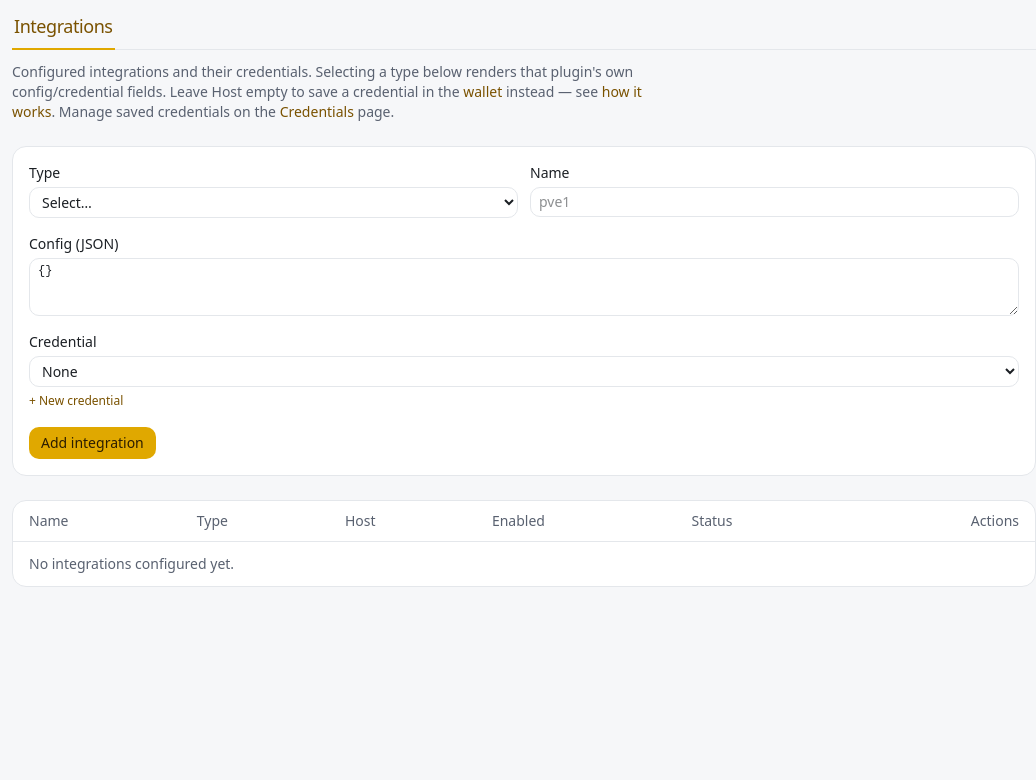
Test: IntegrationsPage › renders a typed field per JSON Schema type and submits their values as config
Expected: the text "No integrations configured yet." is shown, [13,542,1035,586]
Select "Demo Plugin" in the dropdown "Select…". click: (274, 202)
box: [29,187,518,218]
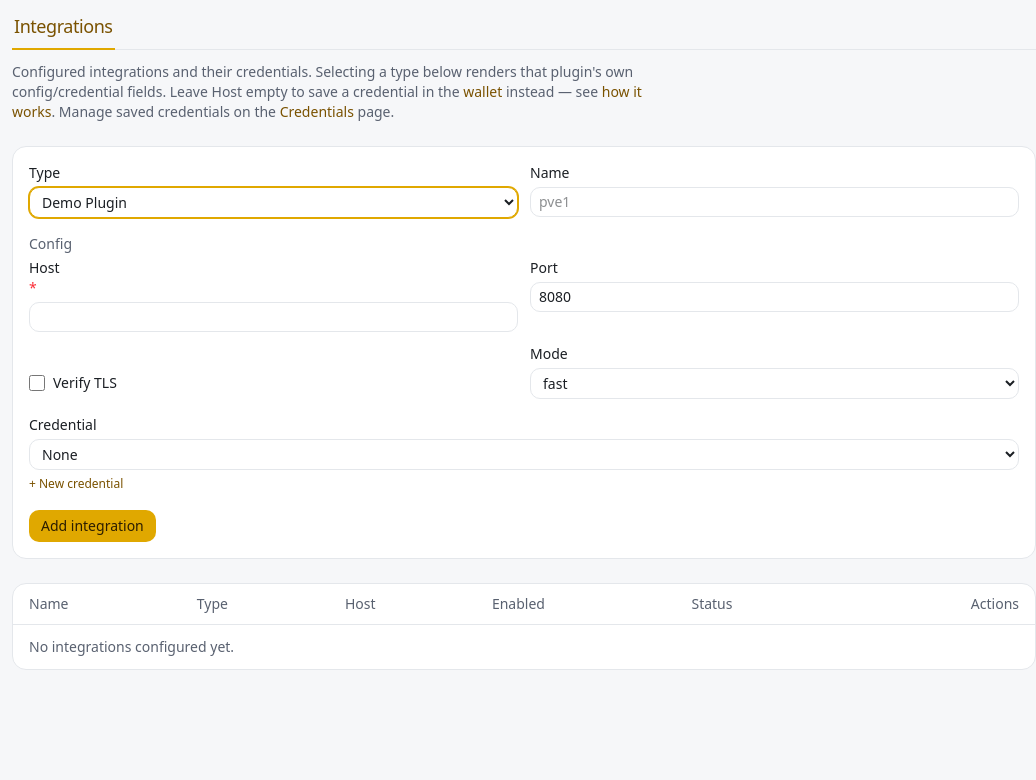
Type "demo-instance" into the field with placeholder "pve1". click: (774, 202)
box: [530,187,1019,217]
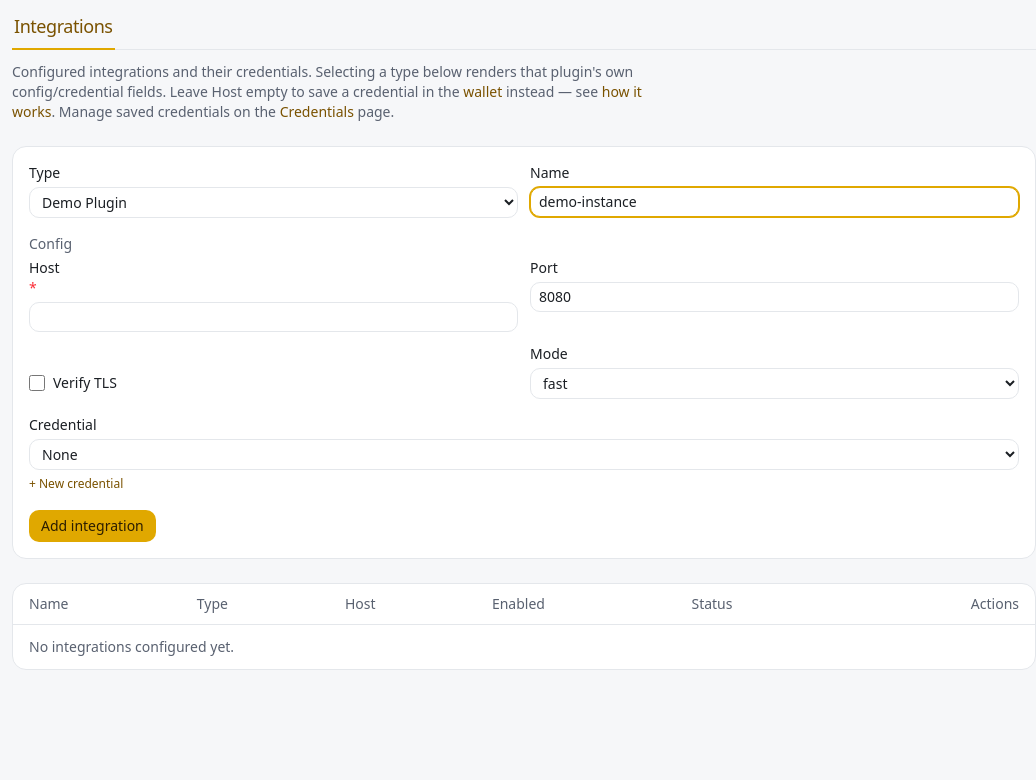
# string field
Type "192.168.1.50" into the field labelled "Host *". click: (274, 317)
box: [29,302,518,332]
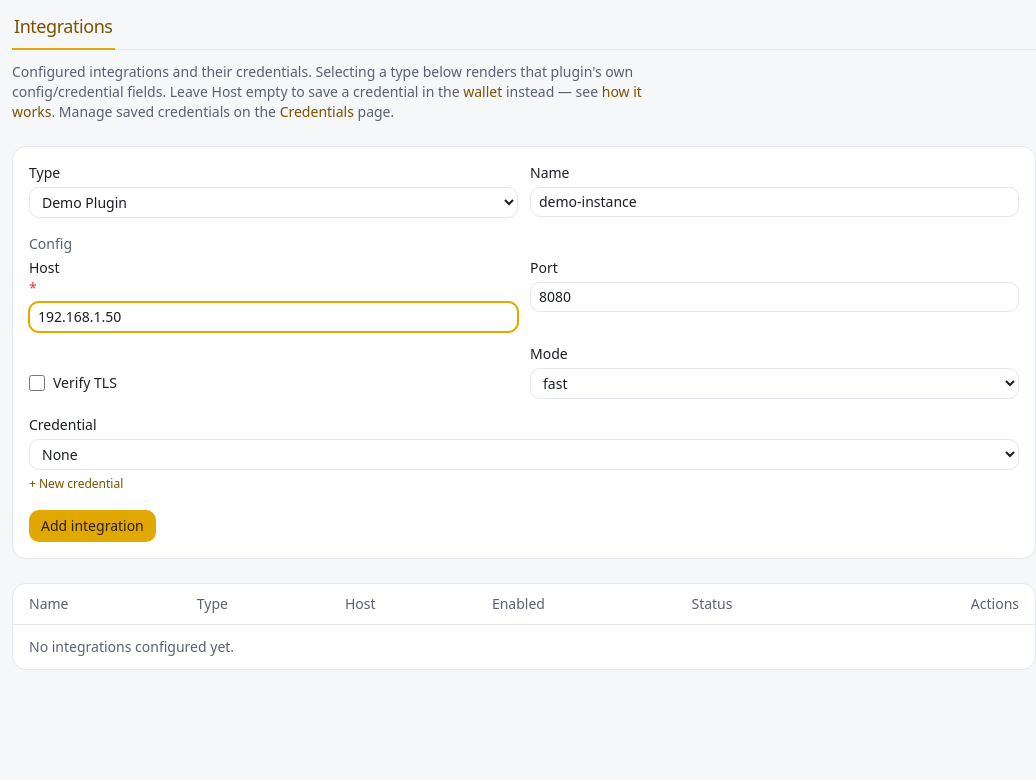
Expected: the number field labelled "Port" holds "8080"
Replace the text in the number field labelled "Port" with "9000". click: (774, 297)
box: [530,282,1019,312]
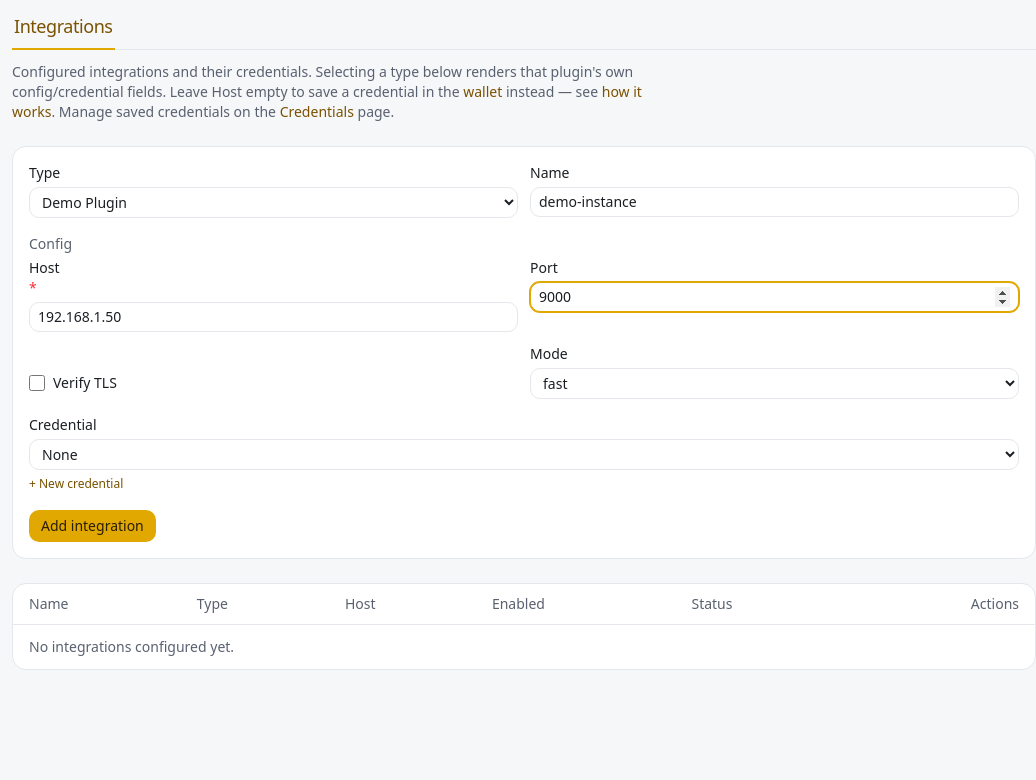
Expected: the checkbox labelled "Verify TLS" is not checked
Click the checkbox labelled "Verify TLS". click: (37, 383)
box: [29,375,45,391]
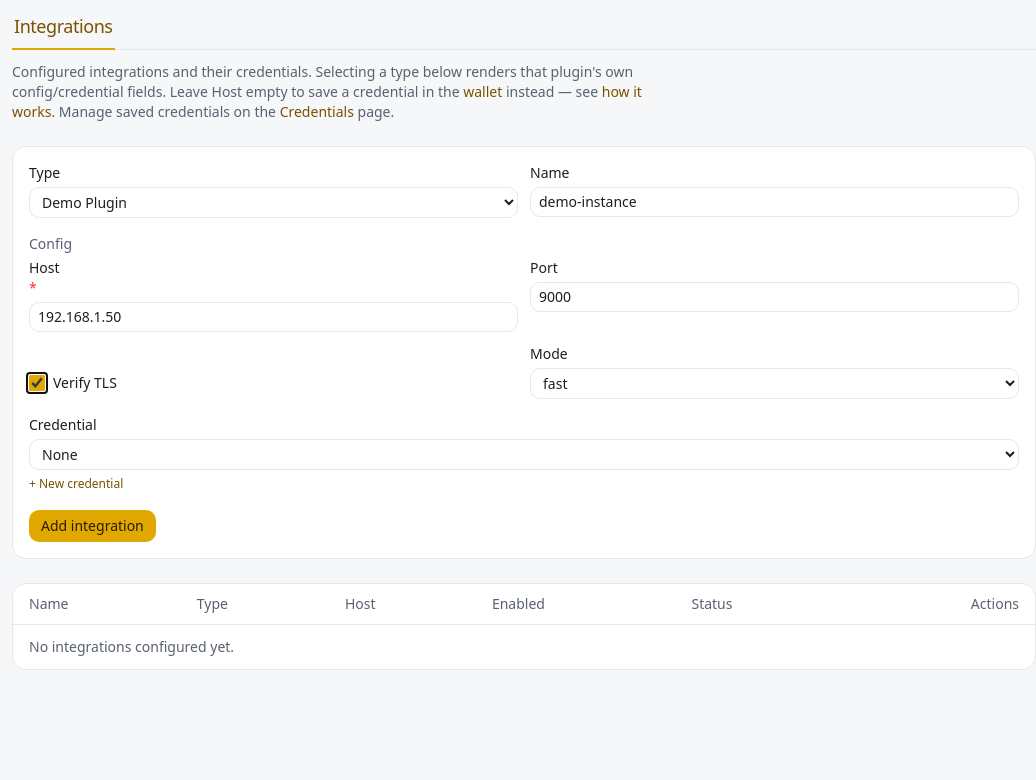
Expected: the dropdown labelled "Mode" shows "fast"
Select "slow" in the dropdown labelled "Mode". click: (774, 384)
box: [530,368,1019,399]
Click the button "Add integration". click: (92, 526)
box: [29,510,156,542]
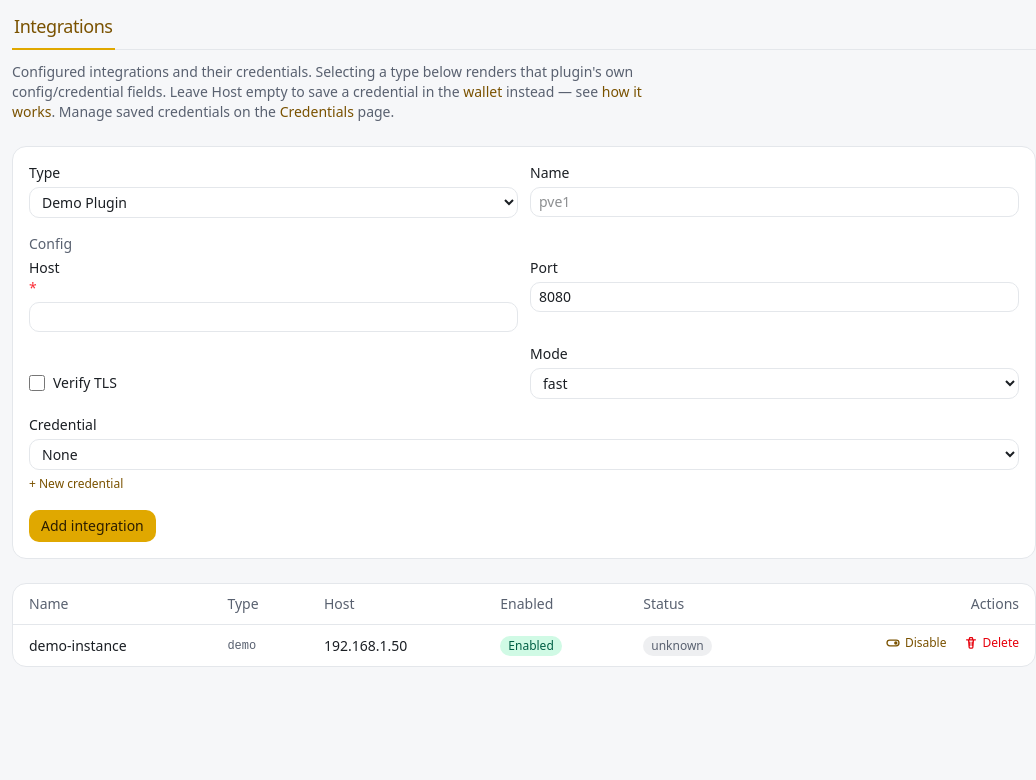
Expected: the text "demo-instance" is shown, [13,624,211,666]
